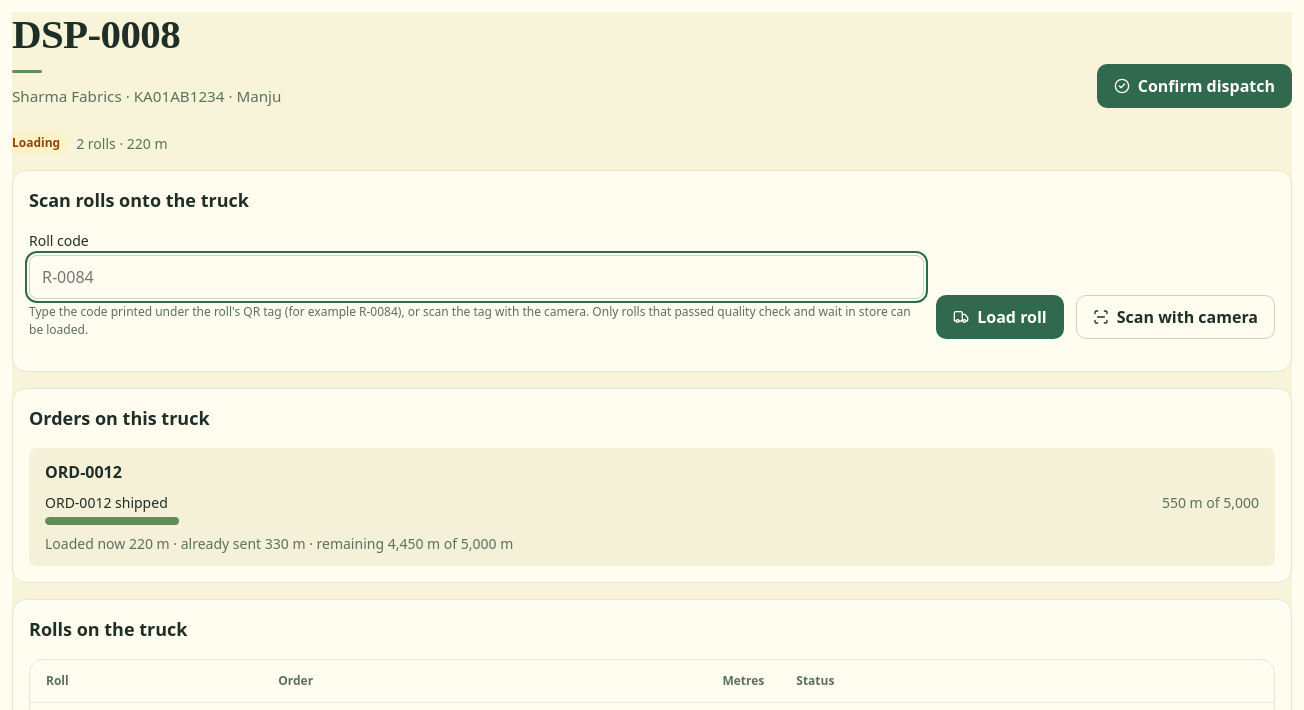
Test: DispatchDetail: loading a truck › confirms each load in a scan log
Type "R-0150" into the field labelled "Roll code". click: (477, 277)
box: [29,255,924,299]
Then press Enter
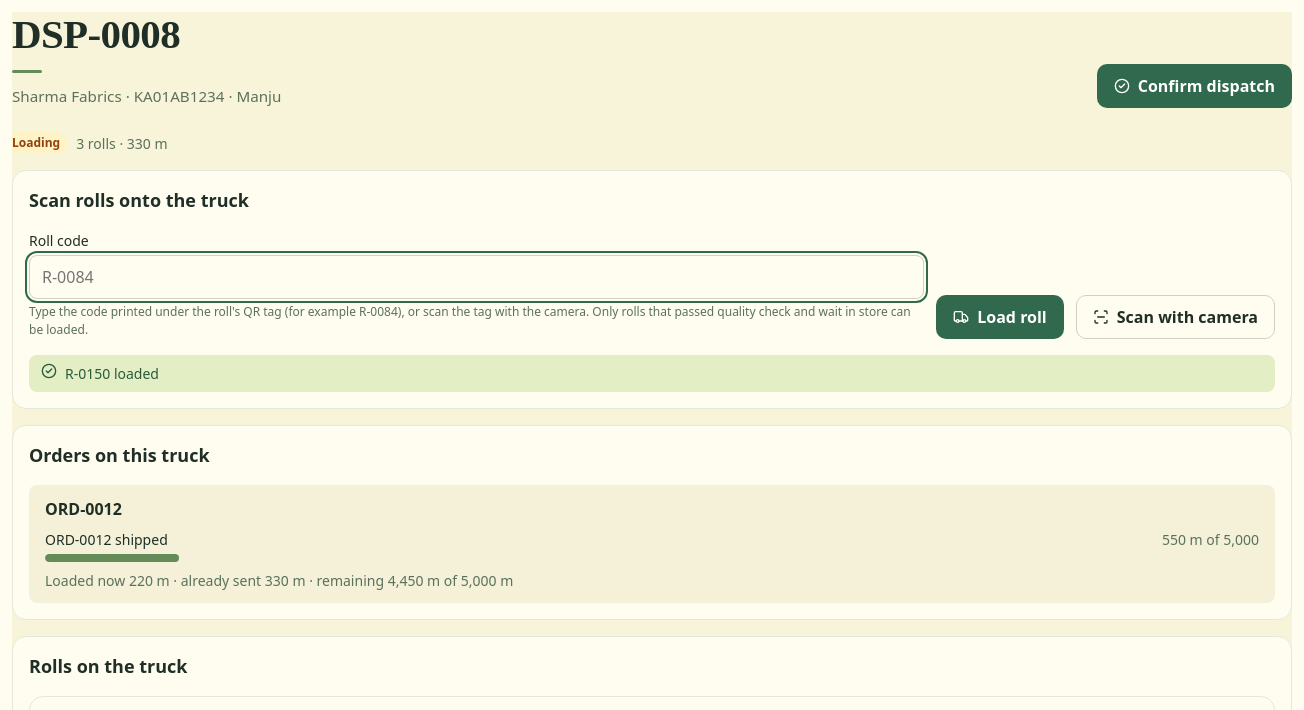
Check: the text "R-0150 loaded" is shown, box [65,363,159,384]
